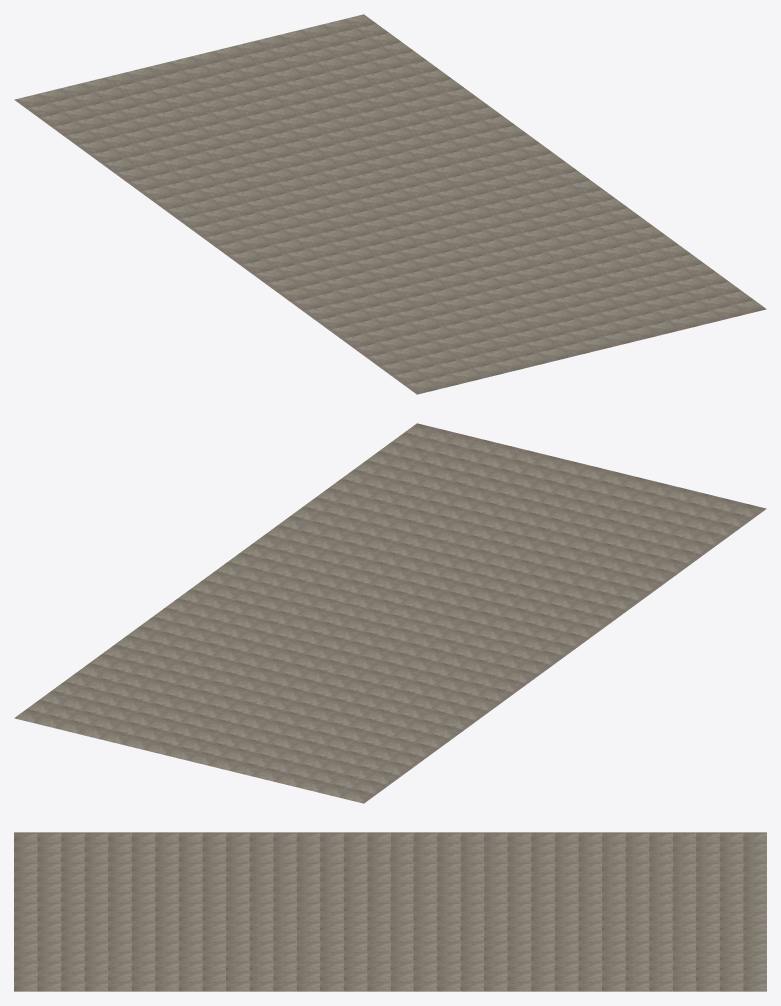
The model's file is 천장_edit.glb.
The picture shows the model from 3 angles, top to bottom: view 1: azimuth 30°, elevation 25°; view 2: azimuth 150°, elevation 25°; view 3: azimuth 270°, elevation 25°; orthographic projection. The views are drawn at different scales.
Parts seen in each view (by area): view 1: Plane; view 2: Plane; view 3: Plane.
Boxes of the visible parts, x1,y1,x2,y2 form: Plane: [14, 14, 766, 394]; Plane: [14, 423, 766, 803]; Plane: [14, 832, 766, 991].
Size of the model in its own units: 31.76 by 0 by 63.36.
Materials: 512 (512 with a texture image).
